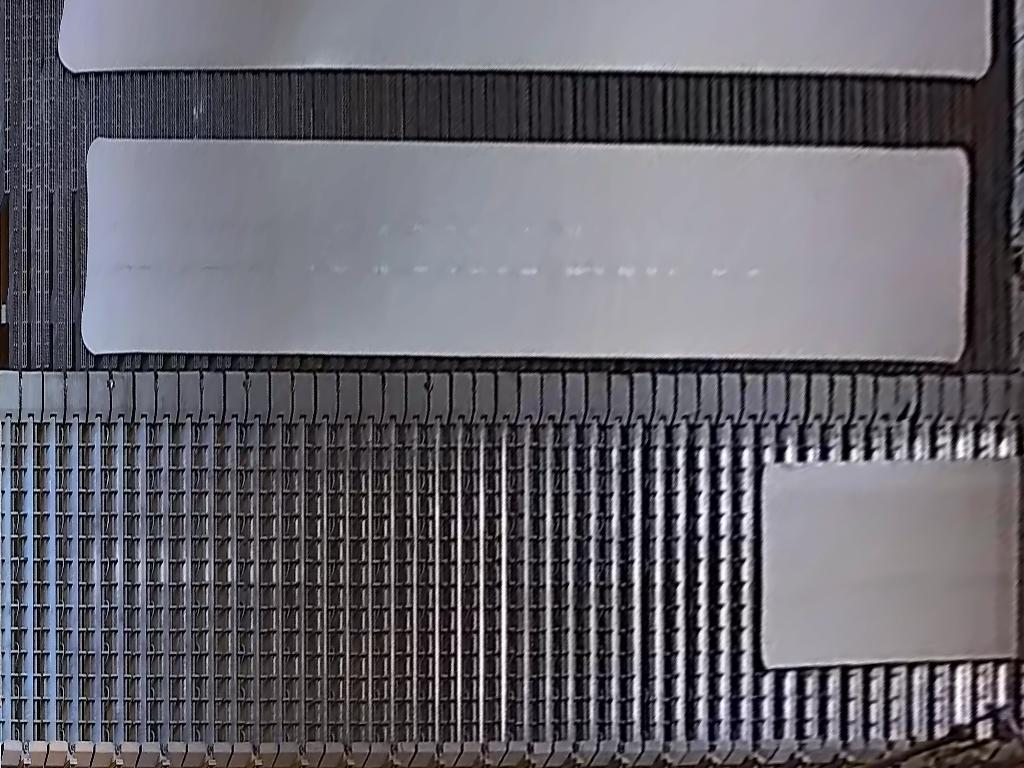steel: (80, 135, 968, 364), (55, 1, 996, 75), (758, 455, 1024, 671)
